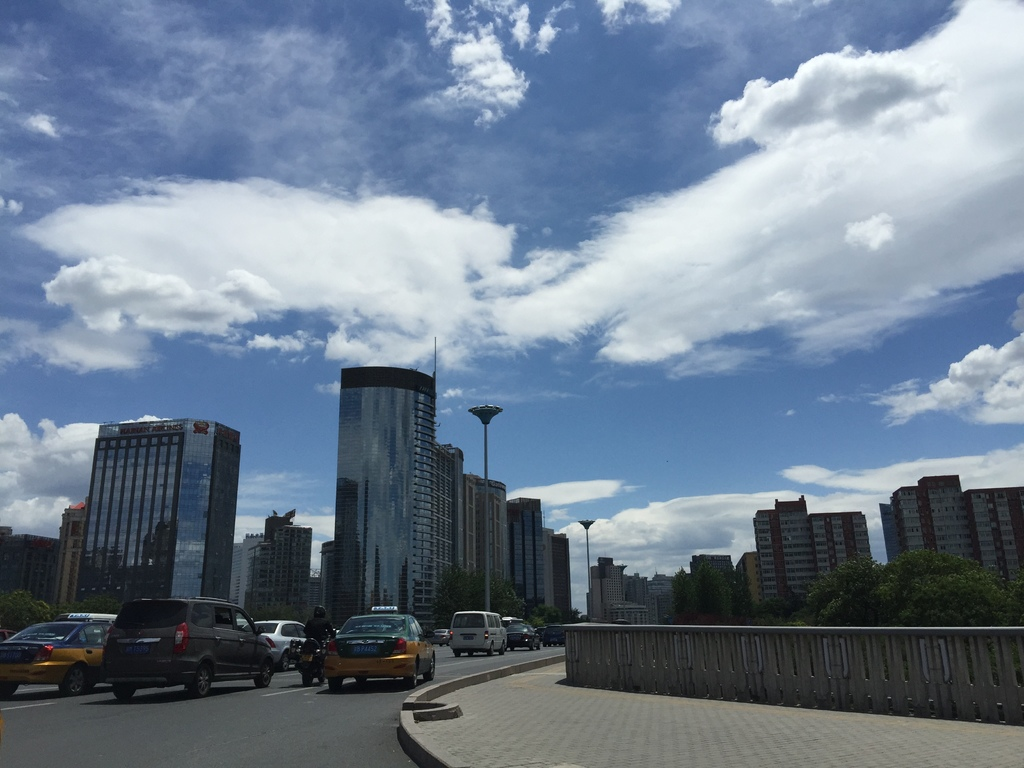Tree: (808, 551, 1023, 625), (430, 560, 590, 633), (673, 561, 750, 616), (1, 588, 46, 631), (60, 598, 120, 615)
